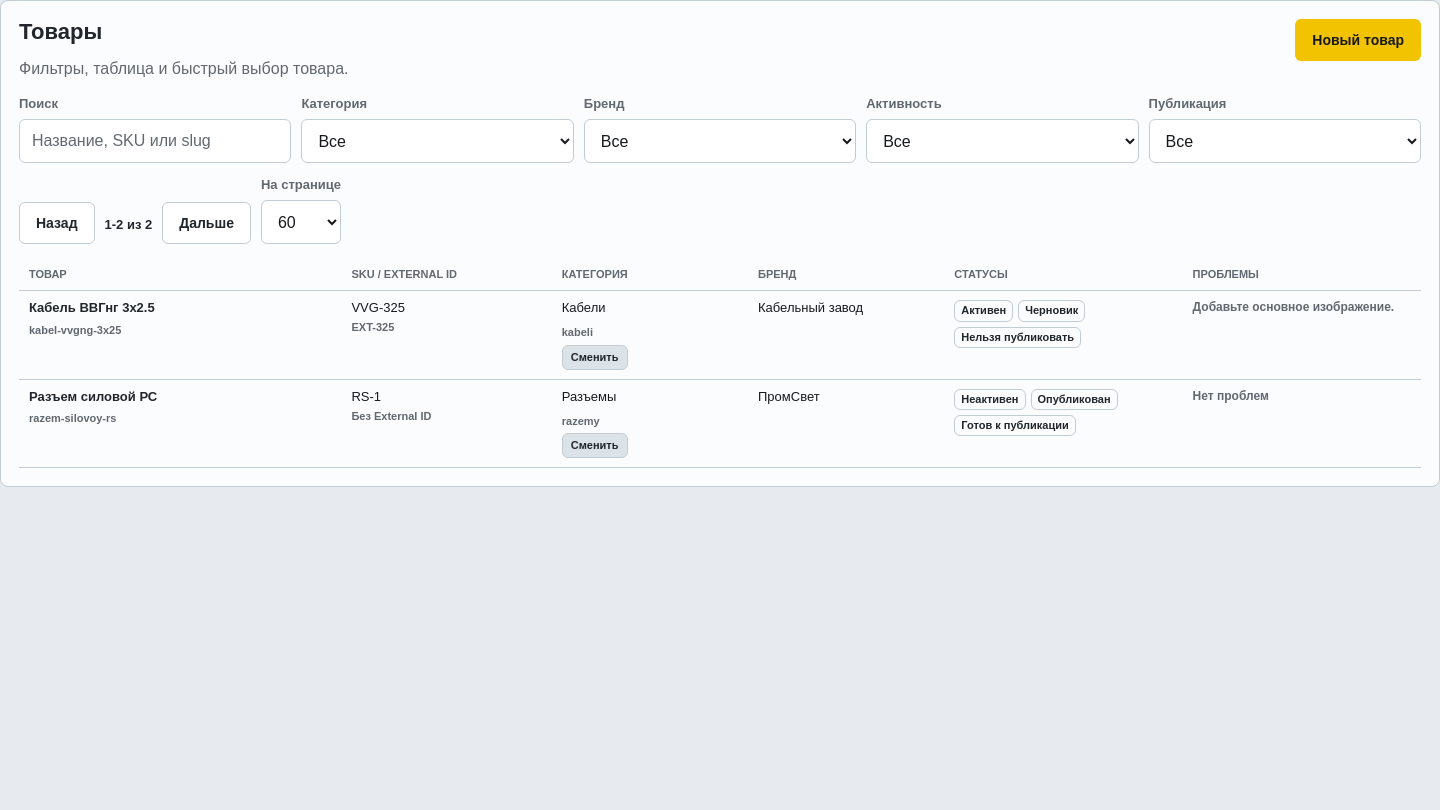
AdminProductManager › сохраняет быструю смену категории полным payload и обновляет список
This screenshot has width=1440, height=810.
Check: the button "Кабель ВВГнг 3x2.5 kabel-vvgng-3x25" is shown, box [29,300,332,337]
Click the button with aria-label "Сменить категорию" at (595, 357), box [562,345,628,370]
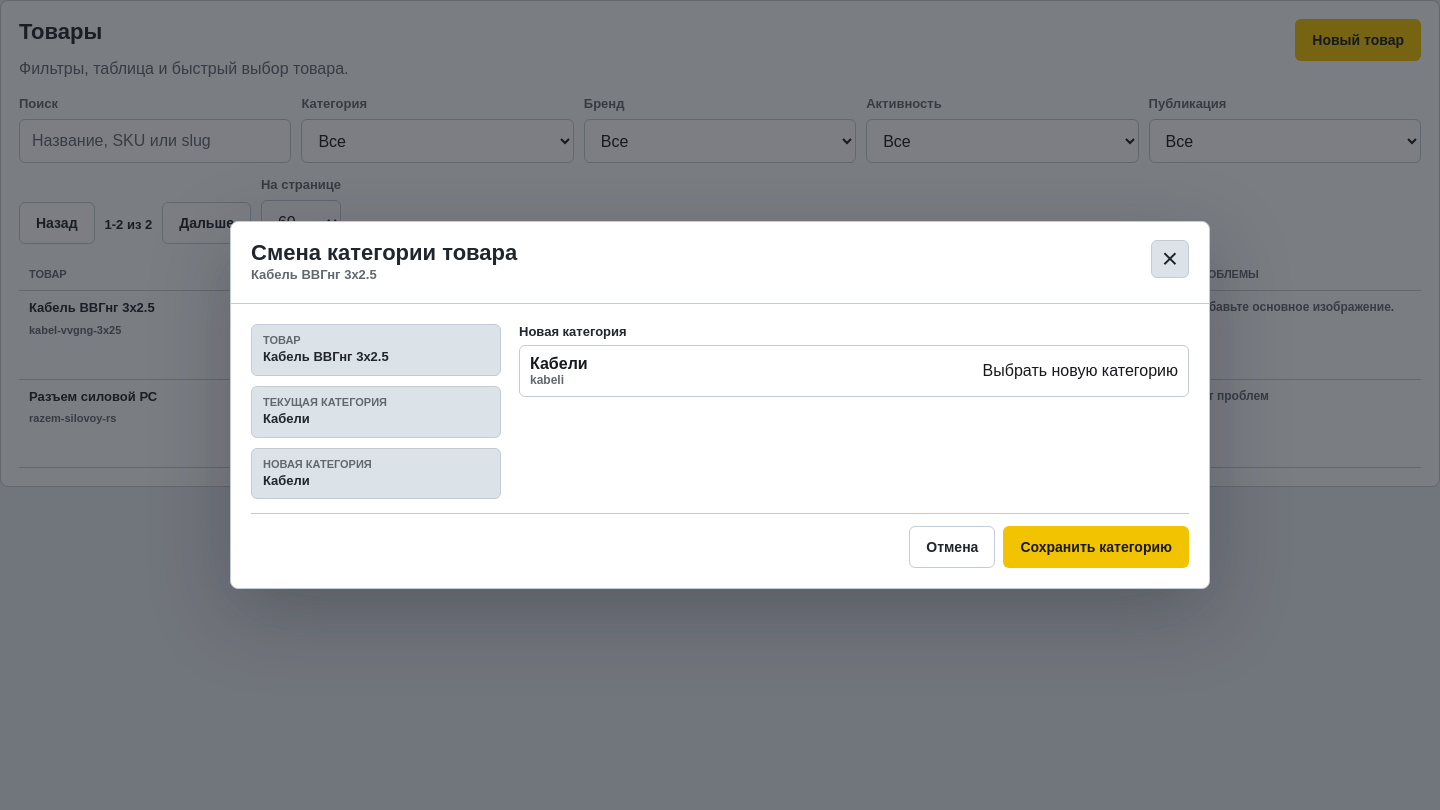
Click the button "Кабели kabeli Выбрать новую категорию" at (559, 363), box [519,345,1189,397]
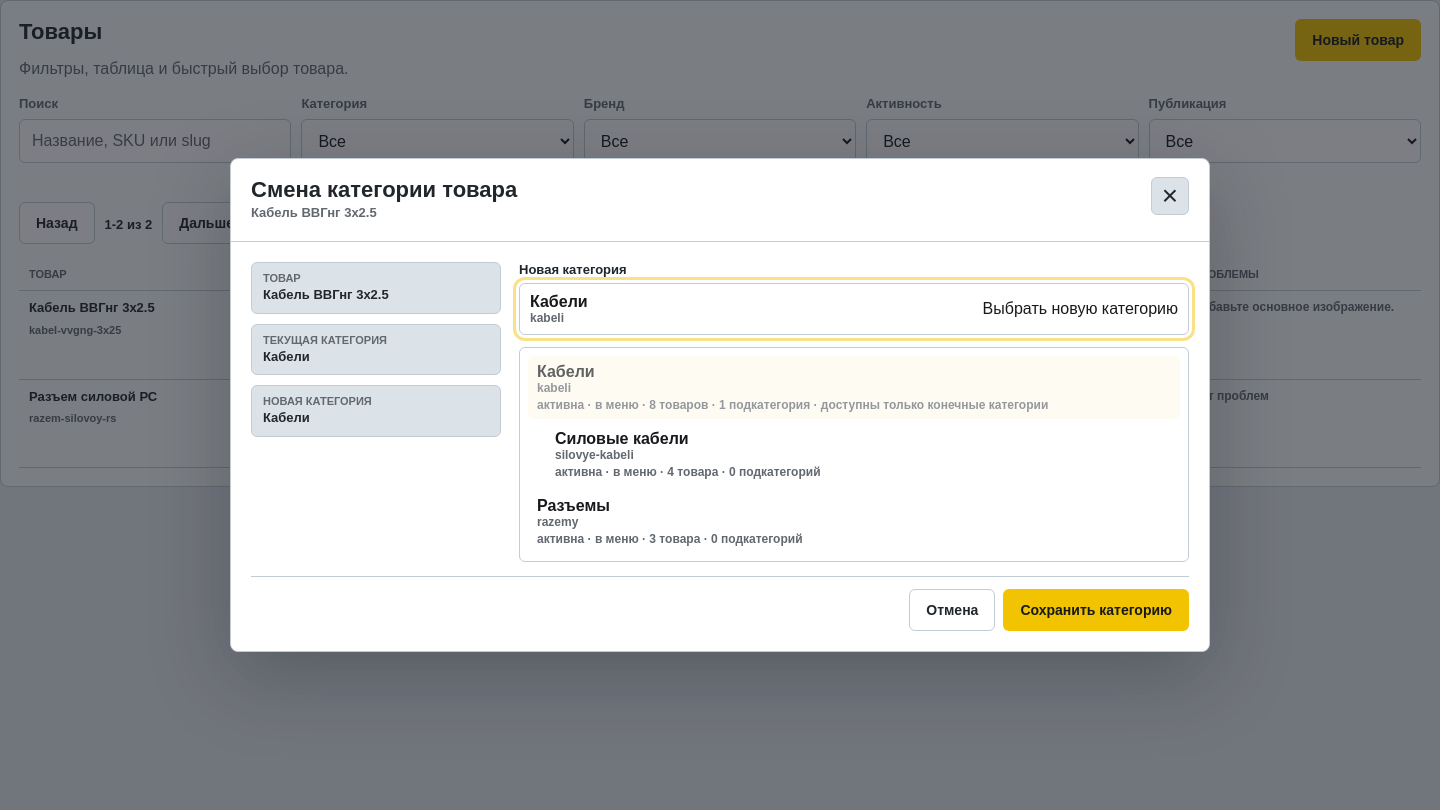
Click the option "Разъемы" at (573, 505), box [528,490,1180,553]
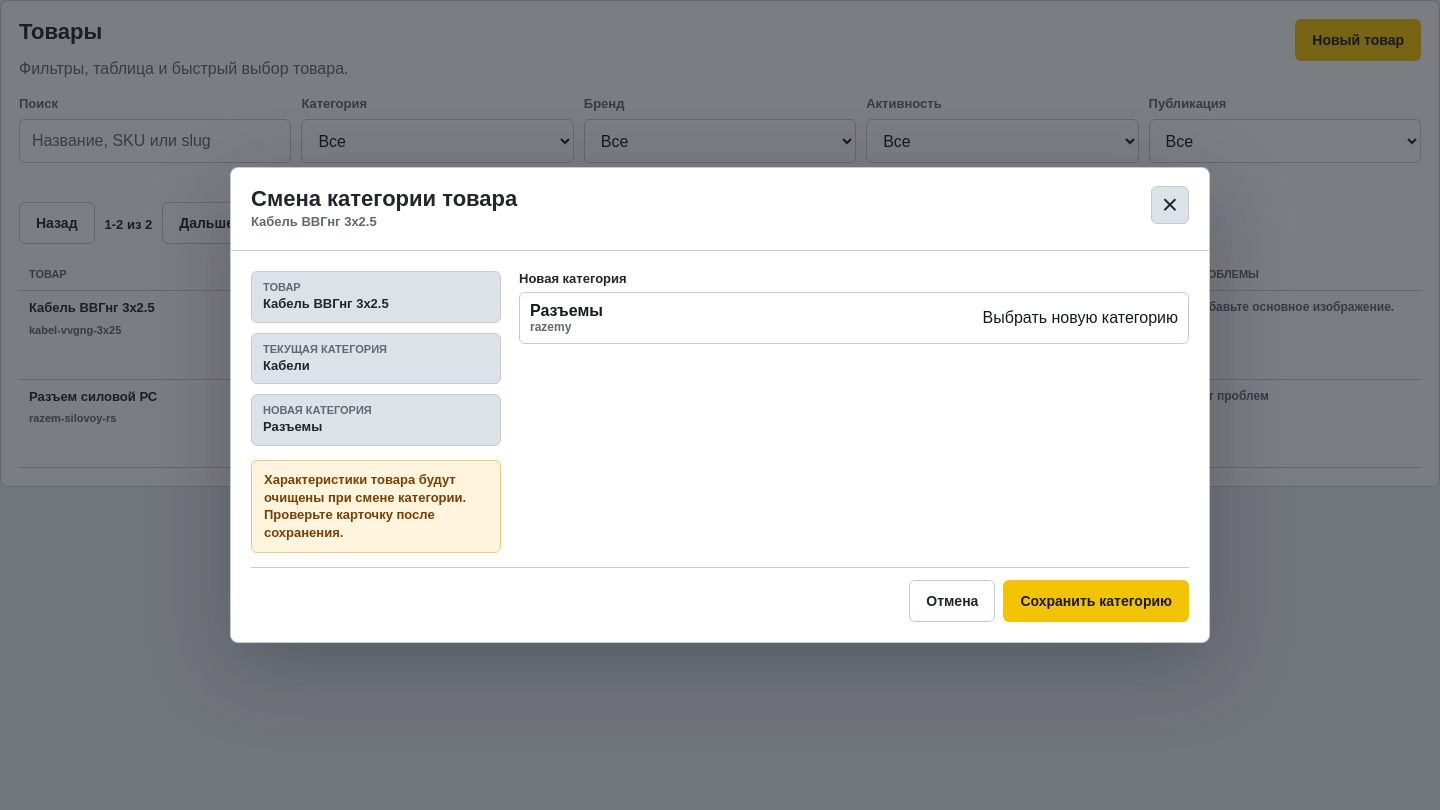
Check: the message shows "Характеристики товара будут очищены", box [264,472,466,540]
Click the button "Сохранить категорию" at (1096, 600), box [1003,580,1189,622]
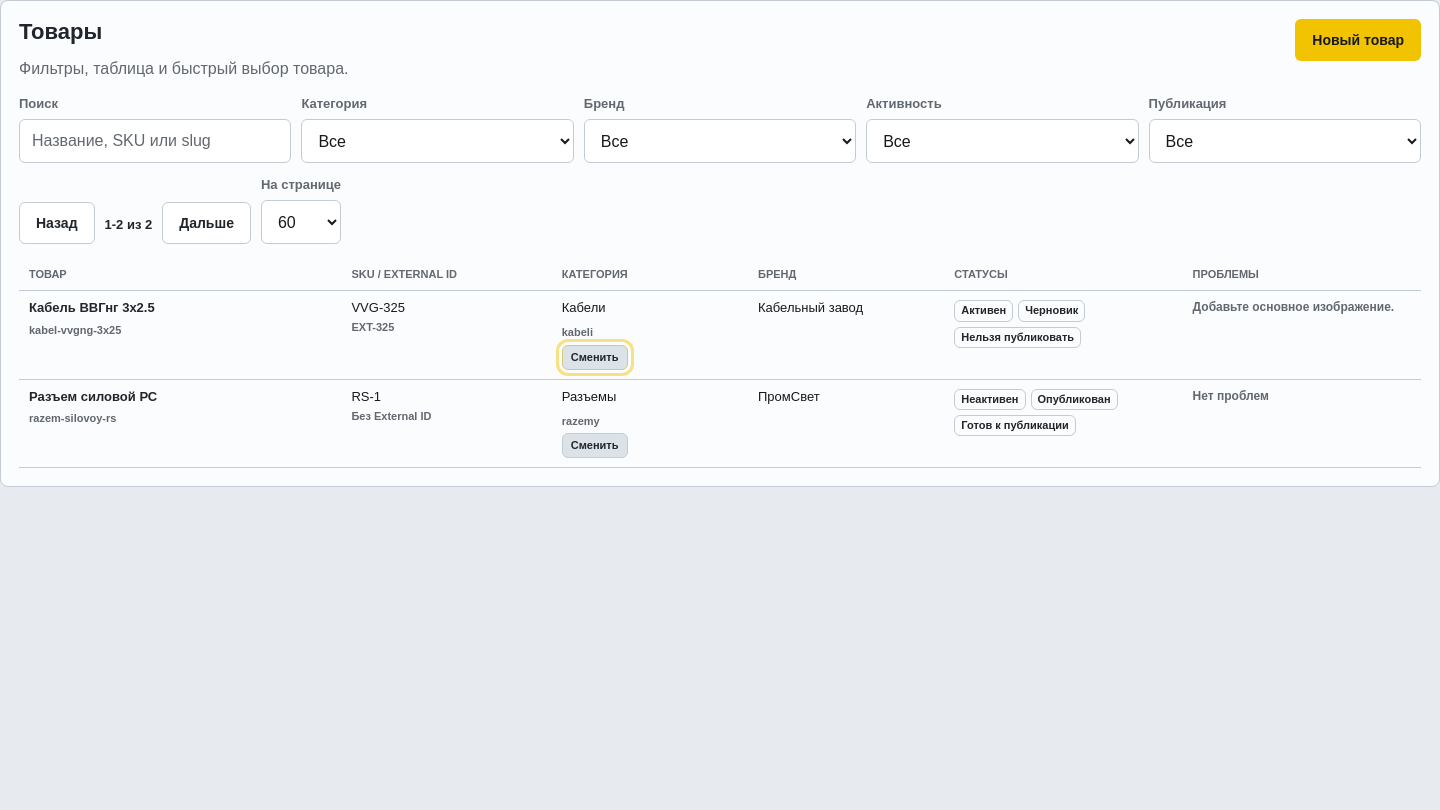
Check: the heading "Смена категории товара" is gone
